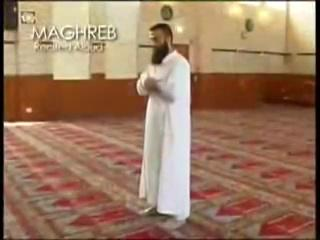qiyam: (137, 24, 191, 230)
